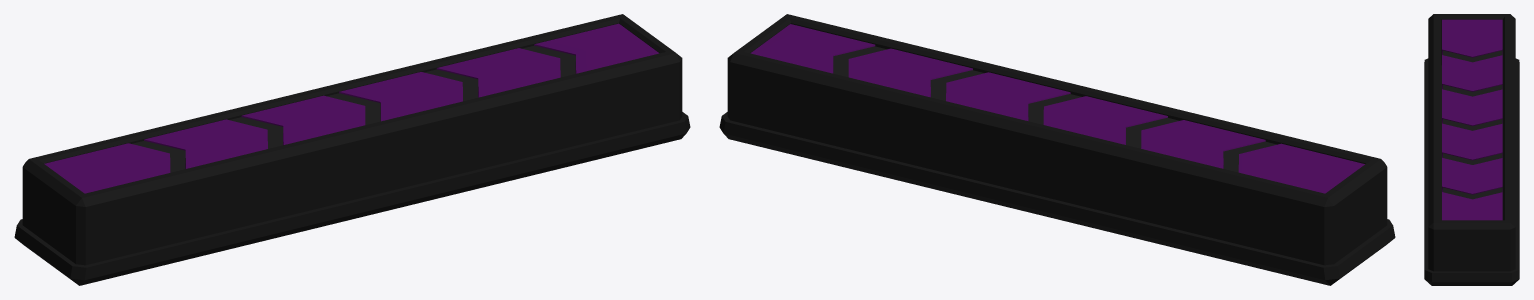
Rendered from BantModel.fbx.
The picture shows the model from 3 angles, left to right: view 1: azimuth 30°, elevation 25°; view 2: azimuth 150°, elevation 25°; view 3: azimuth 270°, elevation 25°; orthographic projection. The views are drawn at different scales.
Parts seen in each view (by area): view 1: polySurface42, pCube35; view 2: polySurface42, pCube35; view 3: polySurface42, pCube35.
Part boxes in pixels (bbox=[...]): polySurface42: bbox=[14, 14, 690, 285]; pCube35: bbox=[44, 23, 659, 193]; polySurface42: bbox=[719, 14, 1395, 285]; pCube35: bbox=[750, 24, 1364, 193]; polySurface42: bbox=[1424, 14, 1519, 285]; pCube35: bbox=[1442, 19, 1502, 220].
Bounding box in the file's own units: 1574 × 209 × 292.
